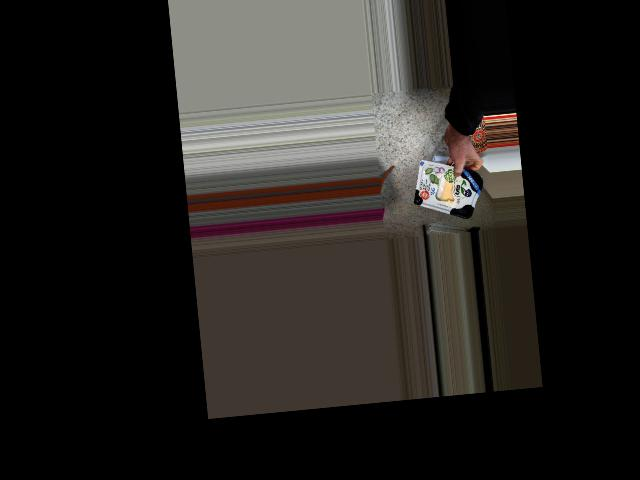cheese: (411, 161, 482, 214)
